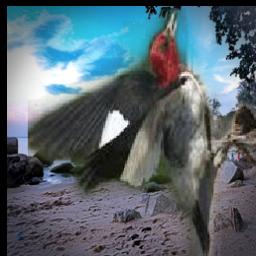Woodpecker: (29, 9, 256, 256)
